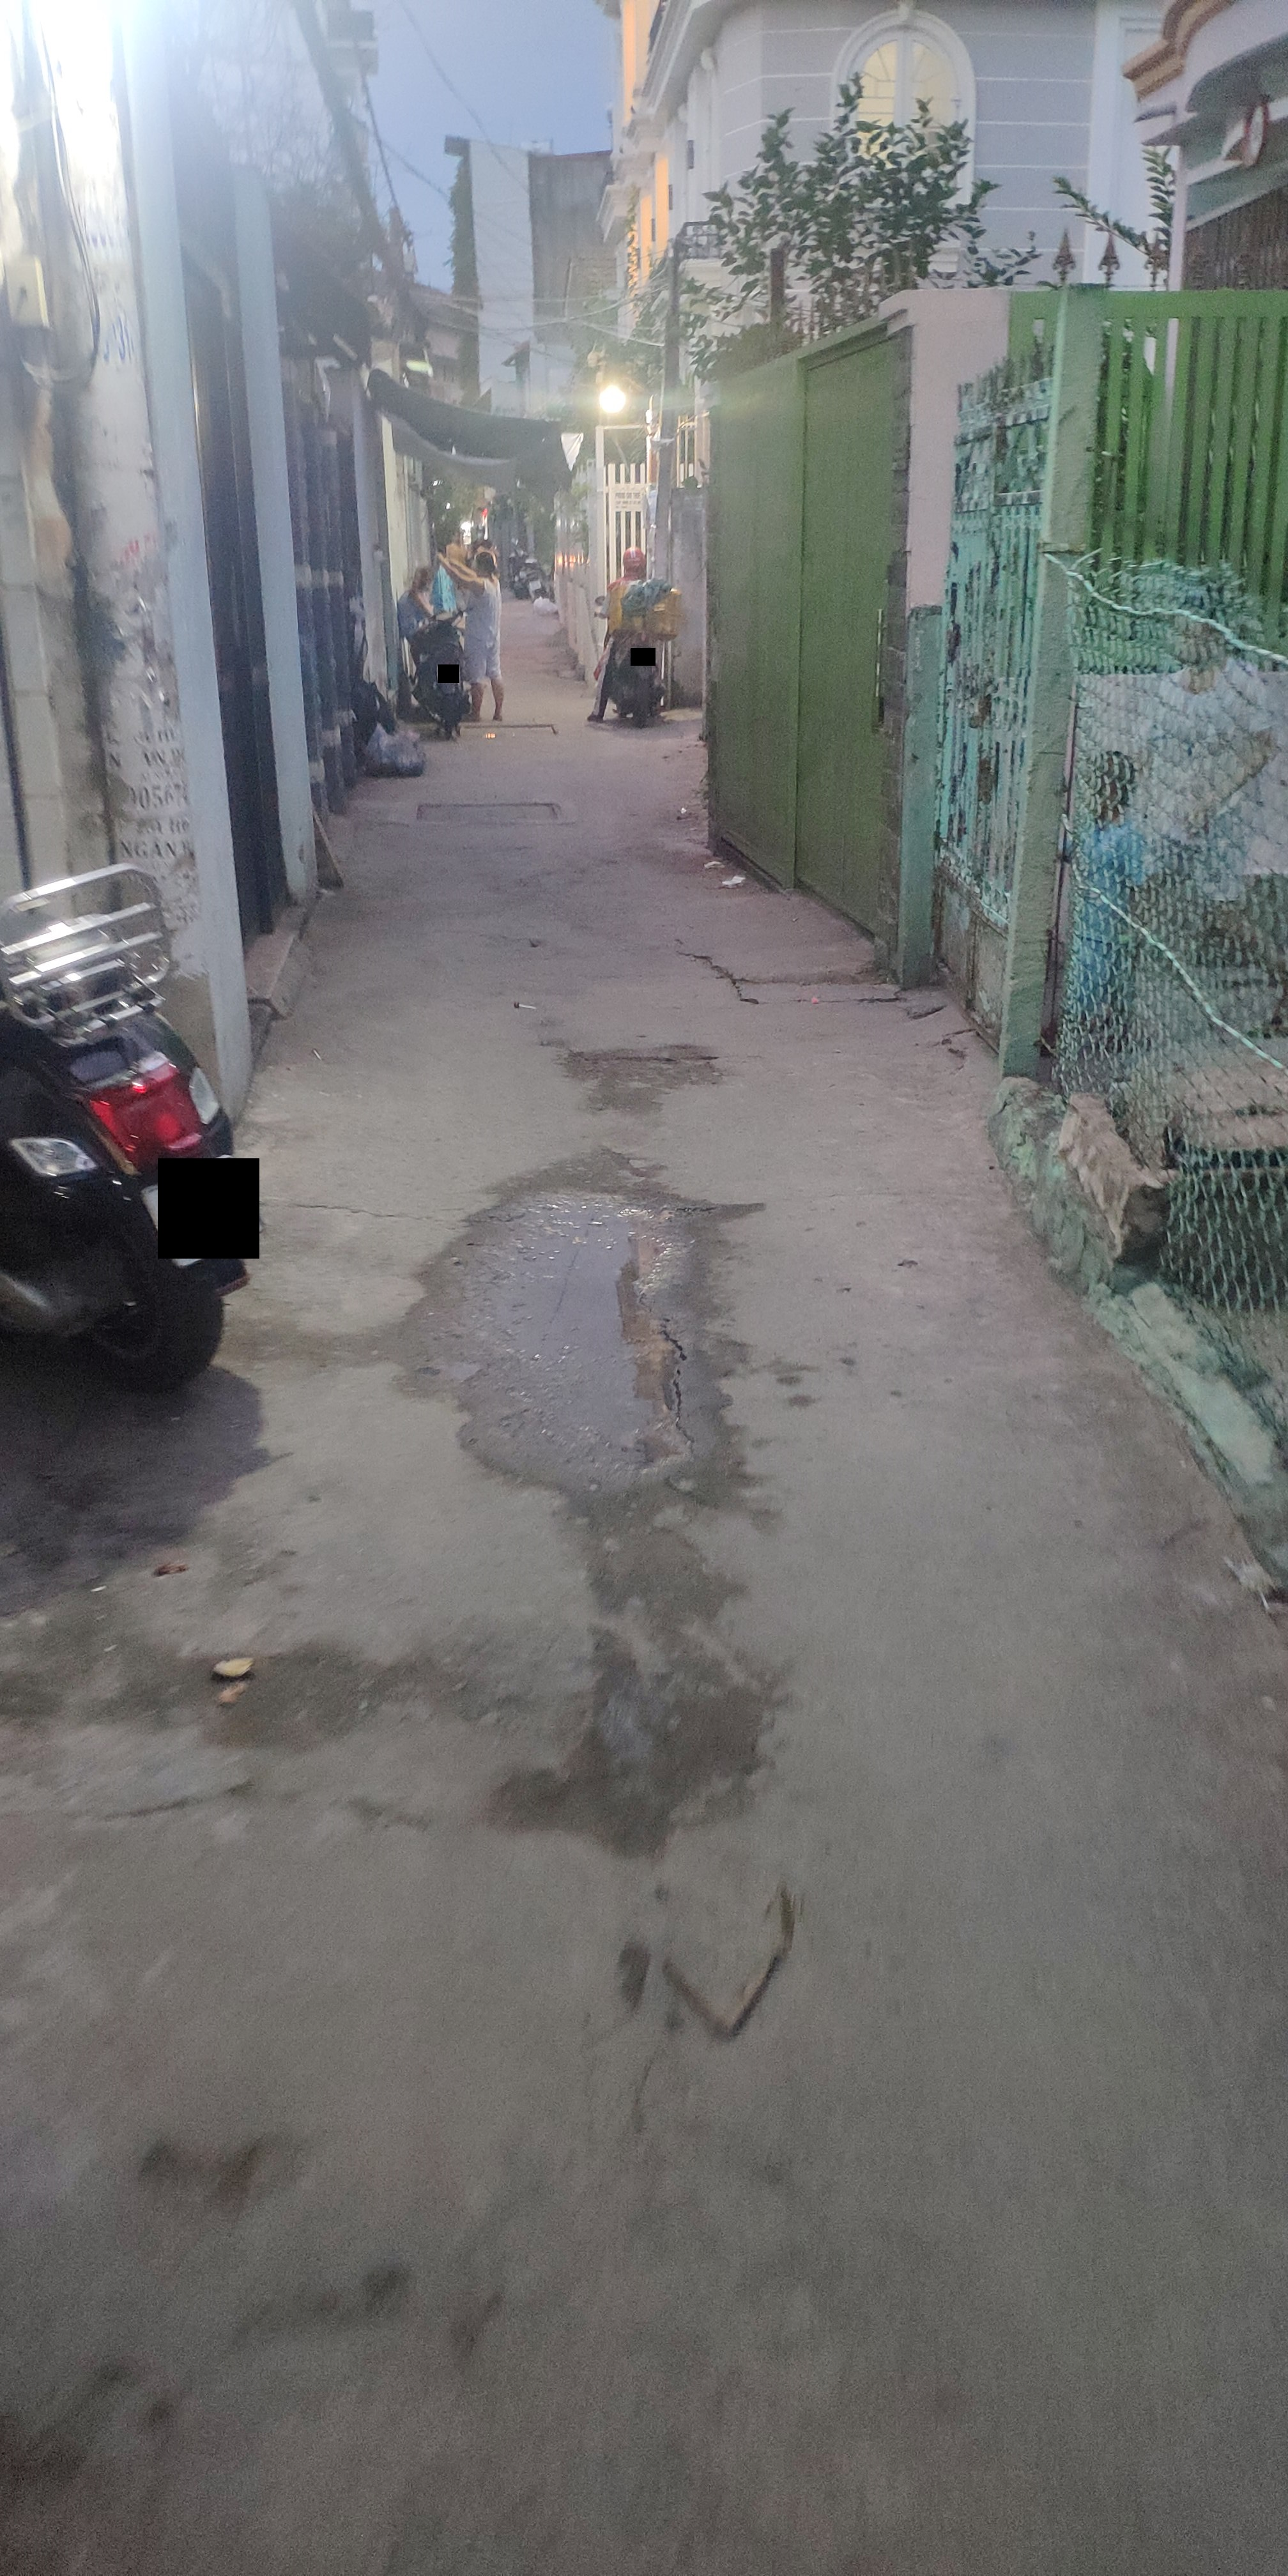hole: (440, 1180, 698, 1482), (509, 1626, 775, 1842)
